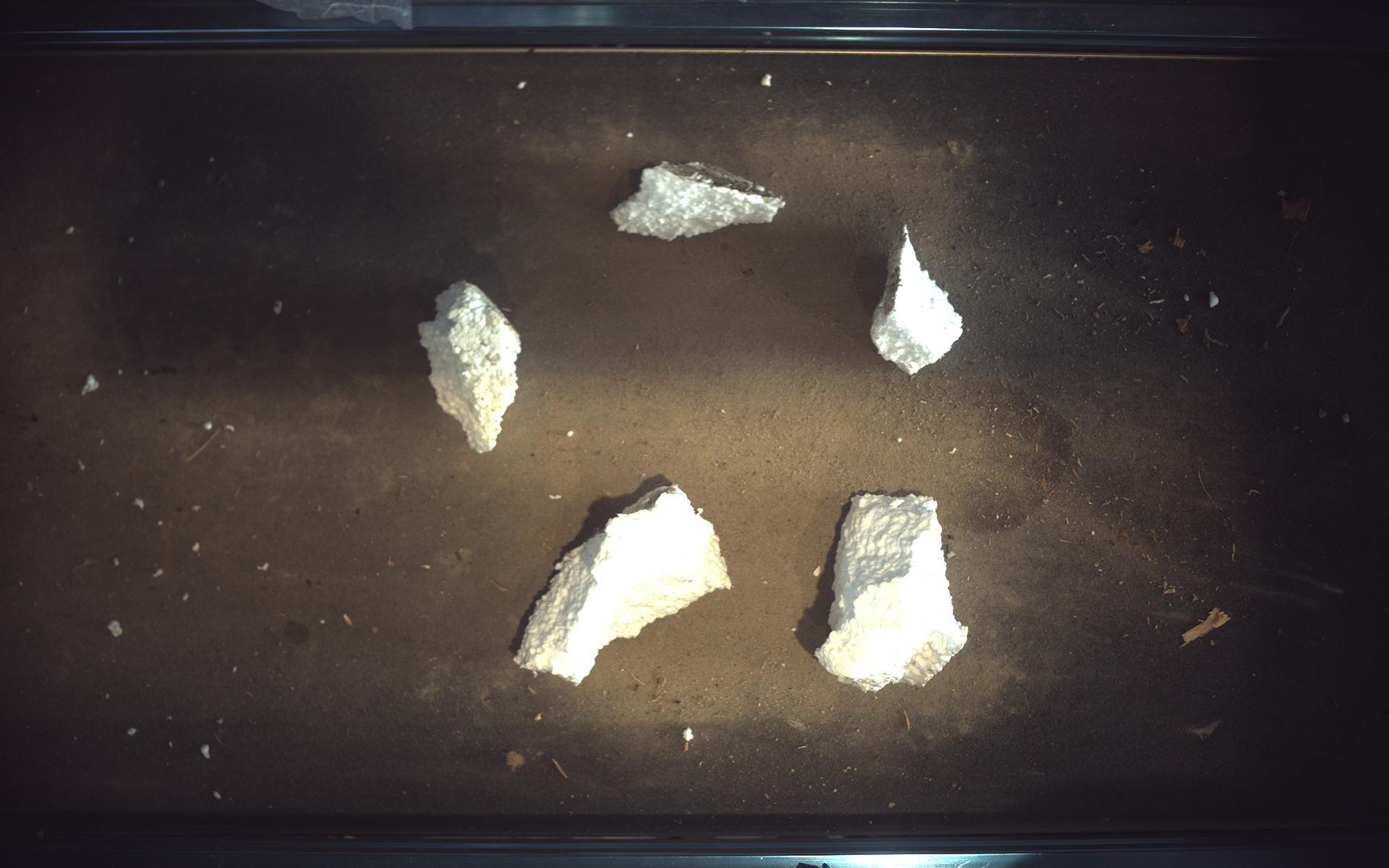foam: (515, 485, 732, 685), (817, 494, 969, 692), (418, 280, 522, 454), (611, 161, 786, 240), (872, 224, 964, 374)
